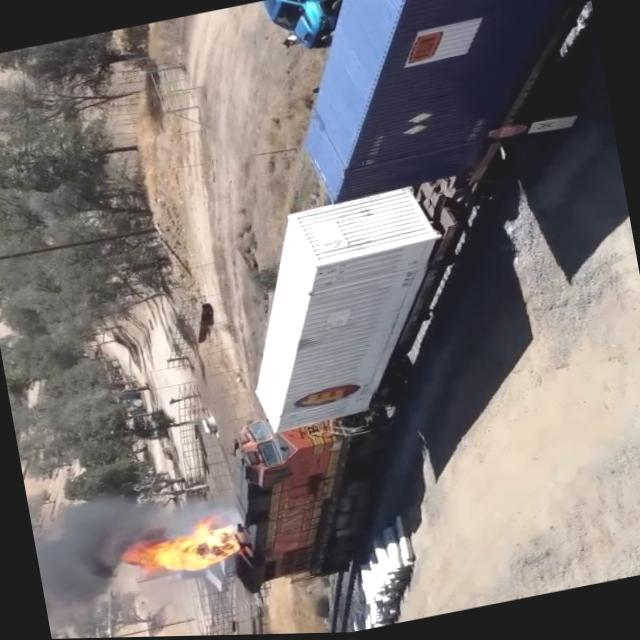fire: (138, 523, 235, 597)
smoke: (27, 490, 105, 614)
